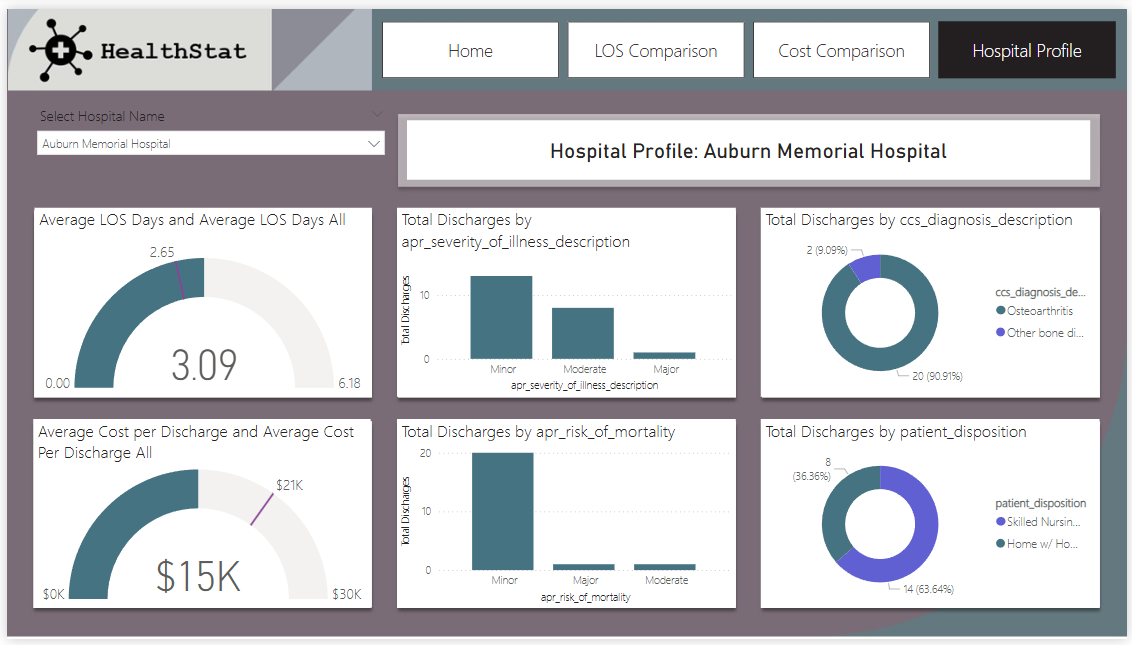

This screenshot's page, from the dashboard's own definition file:
{"tool":"powerbi","page":{"name":"Hospital Profile","canvas":[1280,720],"ordinal":3},"visuals":[{"type":"gauge","fields":{"Y":["__Measures.Average LOS Days"],"TargetValue":["__Measures.Average LOS Days All"]},"box":[31.7,227,385.7,215.9],"z":0},{"type":"gauge","fields":{"Y":["__Measures.Average Cost per Discharge"],"TargetValue":["__Measures.Average Cost Per Discharge All"]},"box":[30.2,468.3,385.7,215.9],"z":1000},{"type":"clusteredColumnChart","fields":{"Category":["hospital_discharges.apr_severity_of_illness_description"],"Y":["__Measures.Total Discharges"]},"box":[446,227,387.3,215.9],"z":2000},{"type":"clusteredColumnChart","fields":{"Y":["__Measures.Total Discharges"],"Category":["hospital_discharges.apr_risk_of_mortality"]},"box":[446,468.3,387.3,215.9],"z":3000},{"type":"donutChart","fields":{"Y":["__Measures.Total Discharges"],"Category":["hospital_discharges.ccs_diagnosis_description"]},"box":[861.9,227,387.3,215.9],"z":4000},{"type":"donutChart","fields":{"Y":["__Measures.Total Discharges"],"Category":["hospital_discharges.patient_disposition"]},"box":[861.9,468.3,387.3,215.9],"z":5000},{"type":"slicer","fields":{"Values":["hospital_discharges.facility_name"]},"box":[23.8,106.3,417.5,103.2],"z":6000},{"type":"card","fields":{"Values":["__Measures.Title Selected Facility"]},"box":[457.1,127,781,68.3],"z":7000},{"type":"pageNavigator","box":[428.6,14.3,838.1,65.1],"z":7001}]}

Visuals, with their boxes in screenshot pixels (x1, y1, x2, y2), scaled from the page's 1280x720 canvas onto the 1132x645 screenshot:
gauge - __Measures.Average LOS Days x __Measures.Average LOS Days All: crop(28, 203, 369, 397)
gauge - __Measures.Average Cost per Discharge x __Measures.Average Cost Per Discharge All: crop(27, 420, 368, 613)
clusteredColumnChart - hospital_discharges.apr_severity_of_illness_description x __Measures.Total Discharges: crop(394, 203, 737, 397)
clusteredColumnChart - __Measures.Total Discharges x hospital_discharges.apr_risk_of_mortality: crop(394, 420, 737, 613)
donutChart - __Measures.Total Discharges x hospital_discharges.ccs_diagnosis_description: crop(762, 203, 1105, 397)
donutChart - __Measures.Total Discharges x hospital_discharges.patient_disposition: crop(762, 420, 1105, 613)
slicer - hospital_discharges.facility_name: crop(21, 95, 390, 188)
card - __Measures.Title Selected Facility: crop(404, 114, 1095, 175)
pageNavigator: crop(379, 13, 1120, 71)
